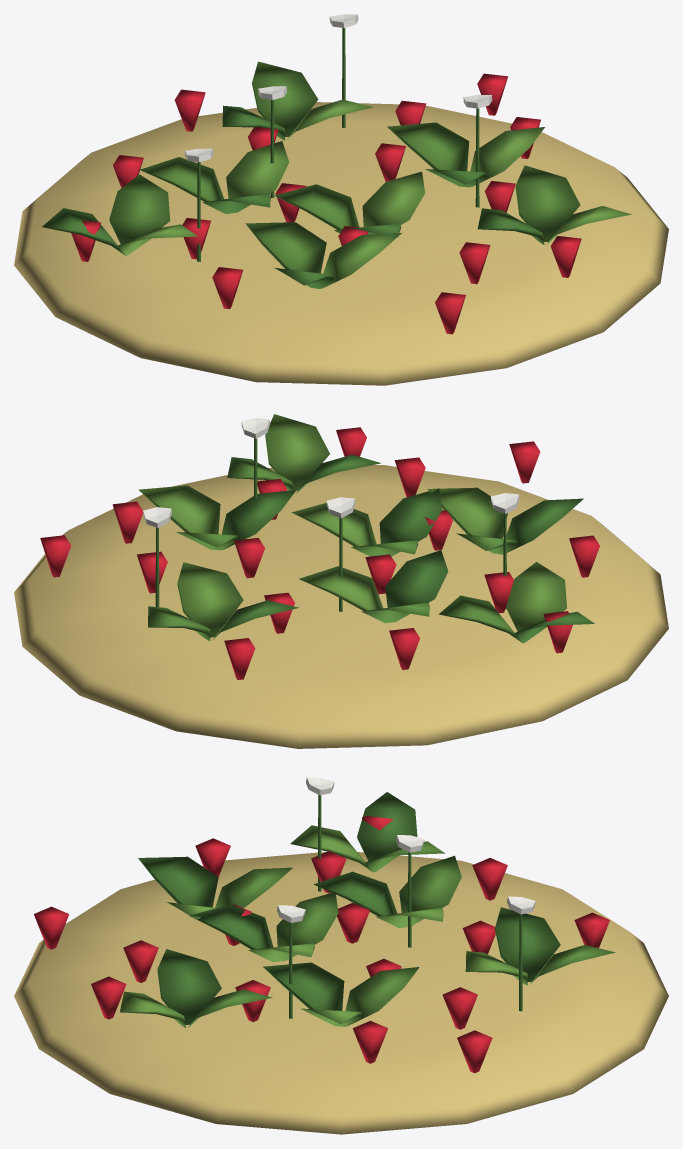
Rendered from strawberries.far.glb.
3 views of the same model, one above another, from view 1: azimuth 30°, elevation 25°; view 2: azimuth 150°, elevation 25°; view 3: azimuth 270°, elevation 25° (orthographic).
Parts seen in each view (by area): view 1: strawberries; view 2: strawberries; view 3: strawberries.
Boxes of the visible parts, x1=… form: strawberries: x1=14, y1=14, x2=668, y2=385; strawberries: x1=14, y1=414, x2=668, y2=748; strawberries: x1=14, y1=777, x2=668, y2=1134.
Bounding box in the file's own units: 0.88 × 0.2094 × 0.88.
